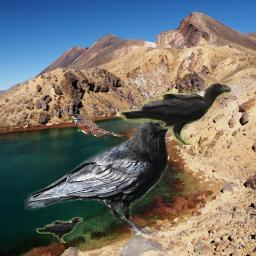Crow: (24, 109, 188, 238), (119, 82, 233, 145), (36, 217, 83, 243)
Cuckoo: (67, 112, 126, 140)
